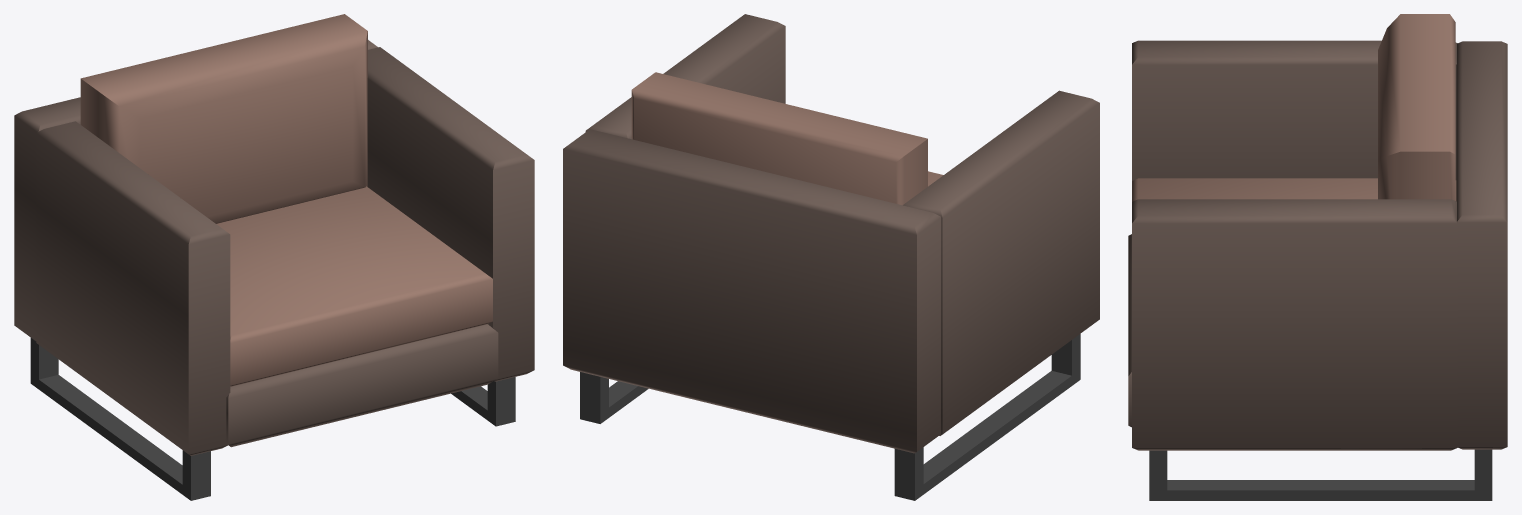
The model's file is armchair008.glb.
3 renders of one model, left to right at view 1: azimuth 30°, elevation 25°; view 2: azimuth 150°, elevation 25°; view 3: azimuth 270°, elevation 25°, orthographic. The views are drawn at different scales.
Visible parts, largest first — view 1: armchair.008; view 2: armchair.008; view 3: armchair.008.
Boxes of the visible parts, box(x1,y1,x2,y2) form: armchair.008: box(14, 14, 534, 500); armchair.008: box(563, 14, 1099, 500); armchair.008: box(1128, 14, 1507, 500).
Size of the model in its own units: 0.9044 by 0.78 by 0.8041.
1 material, 1 textured.
